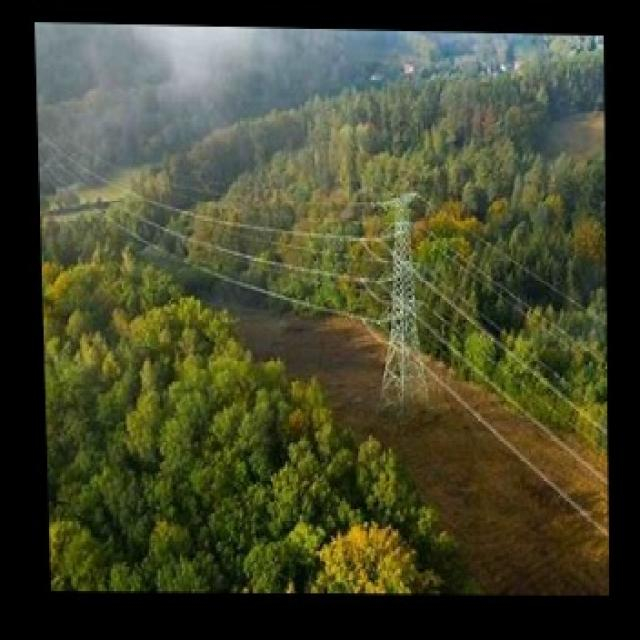utility poles: (362, 184, 441, 416)
